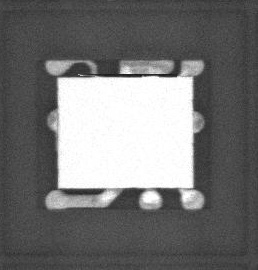DIE_BROKEN: (81, 71, 179, 78)
